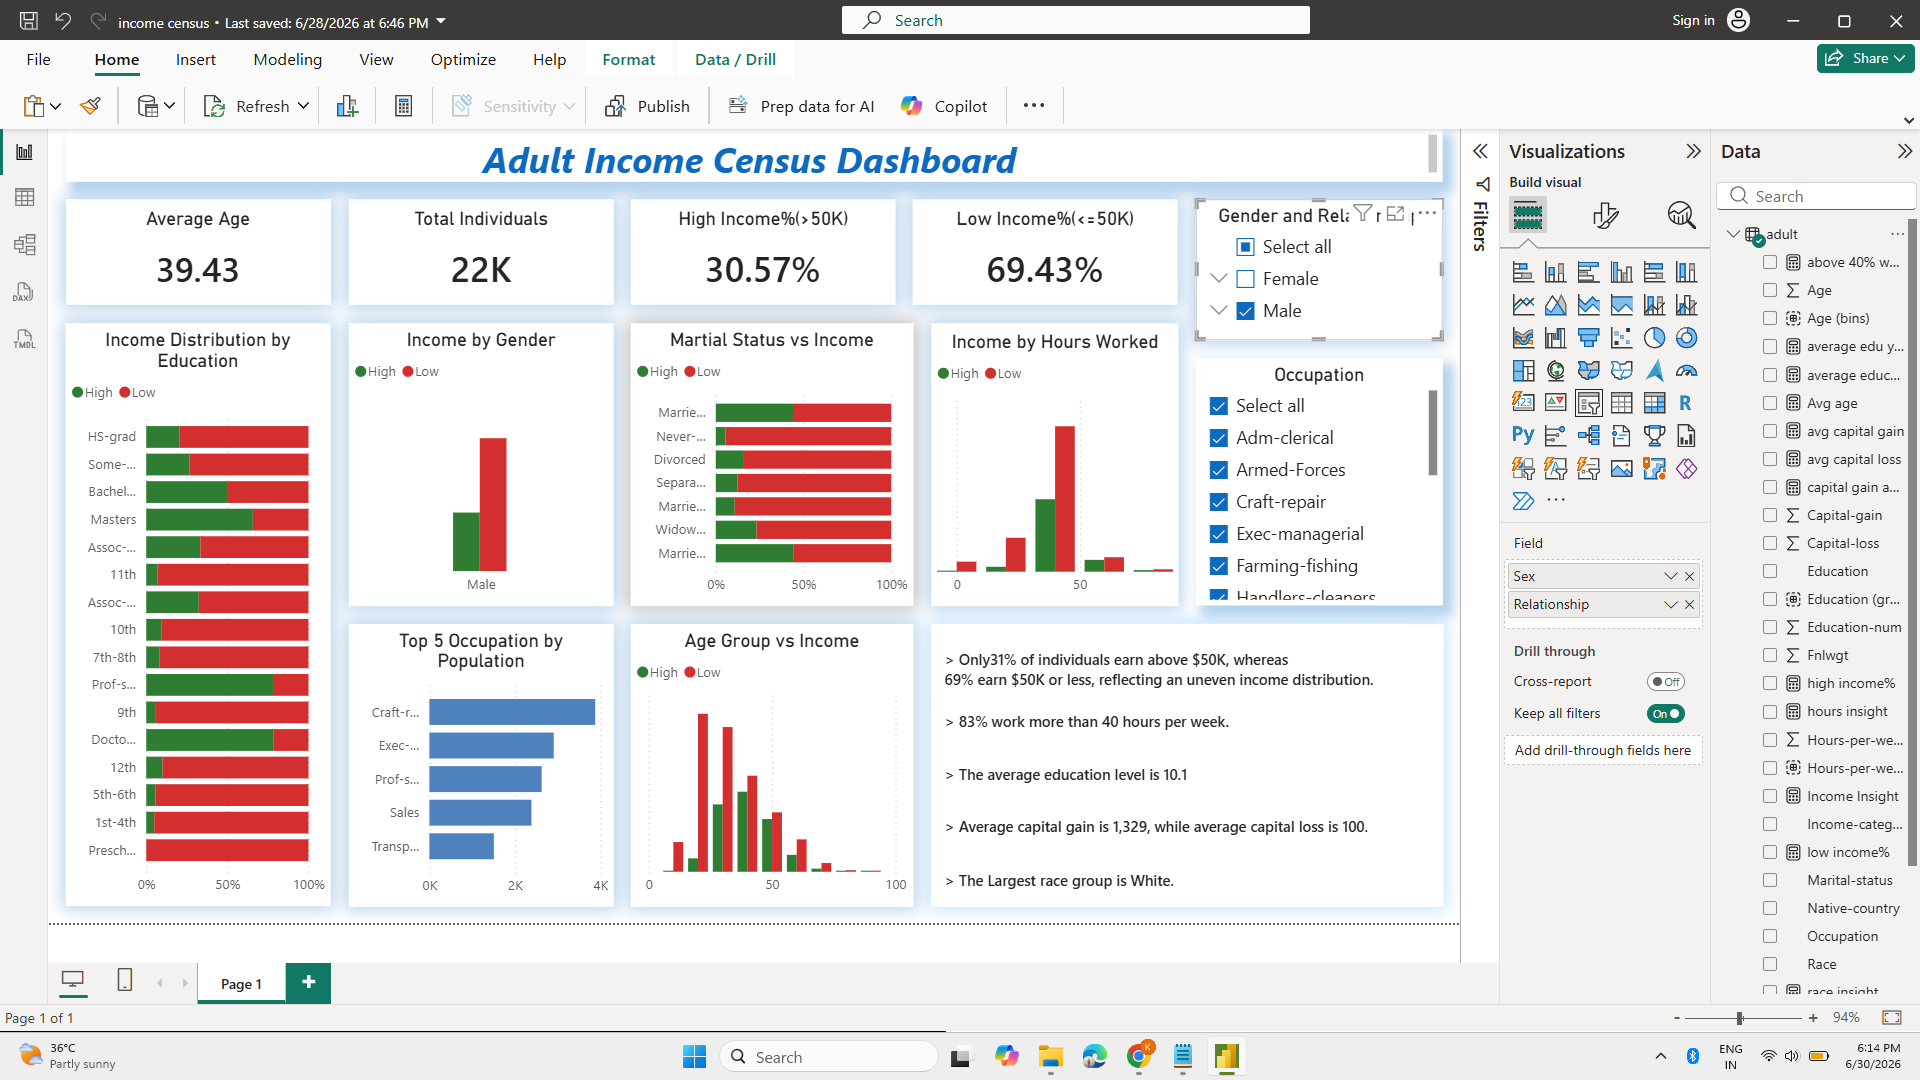

The dashboard page shown, as its layout file describes it:
{"tool":"powerbi","page":{"name":"Page 1","canvas":[1280,720],"ordinal":0},"visuals":[{"type":"shape","box":[800,448,464,256],"z":0},{"type":"slicer","title":"Occupation","fields":{"Values":["adult.Occupation"]},"box":[1040,208,224,224],"z":1000},{"type":"cardVisual","title":"Average Age","fields":{"Data":["adult.Avg age"]},"box":[16,64,240,96],"z":2000},{"type":"cardVisual","title":"Total Individuals","fields":{"Data":["adult.total population"]},"box":[272,64,240,96],"z":3000},{"type":"cardVisual","title":"High Income%(>50K)","fields":{"Data":["adult.high income%"]},"box":[528,64,240,96],"z":4000},{"type":"cardVisual","title":"Low Income%(<=50K)","fields":{"Data":["adult.low income%"]},"box":[784,64,240,96],"z":5000},{"type":"slicer","title":"Gender and Relationship","fields":{"Values":["adult.Sex","adult.Relationship"]},"box":[1040,64,224,128],"z":6000},{"type":"clusteredColumnChart","title":"Income by Gender","fields":{"Category":["adult.Sex"],"Y":["CountNonNull(adult.Native-country)"],"Series":["adult.Income-category"]},"box":[272,176,240,256],"z":7000},{"type":"barChart","title":"Top 5 Occupation by Population","fields":{"Category":["adult.Occupation"],"Y":["adult.total population"]},"box":[272,448,240,256],"z":8000},{"type":"hundredPercentStackedBarChart","title":"Income Distribution by Education","fields":{"Y":["adult.total population"],"Category":["adult.Education"],"Series":["adult.Income-category"]},"box":[16,176,240,528],"z":9000},{"type":"hundredPercentStackedBarChart","title":"Martial Status vs Income","fields":{"Category":["adult.Marital-status"],"Y":["adult.total population"],"Series":["adult.Income-category"]},"box":[528,176,256,256],"z":10000},{"type":"clusteredColumnChart","title":"Age Group vs Income","fields":{"Y":["adult.total population"],"Series":["adult.Income-category"],"Category":["adult.Age (bins)"]},"box":[528,448,256,256],"z":11000},{"type":"clusteredColumnChart","title":"Income by Hours Worked","fields":{"Series":["adult.Income-category"],"Y":["adult.total population"],"Category":["adult.Hours-per-week (bins)"]},"box":[800,176,224,256],"z":12000},{"type":"cardVisual","title":"     Income Insight","fields":{"Data":["adult.income insight"]},"box":[800,448,432,80],"z":13000},{"type":"cardVisual","fields":{"Data":["adult.hours insight"]},"box":[800,512,432,48],"z":14000},{"type":"cardVisual","fields":{"Data":["adult.average edu year insights"]},"box":[800,560,352,48],"z":15000},{"type":"cardVisual","fields":{"Data":["adult.capital gain and loss"]},"box":[800,608,432,48],"z":16000},{"type":"cardVisual","fields":{"Data":["adult.race insight"]},"box":[800,656,304,48],"z":17000},{"type":"shape","box":[16,0,1248,48],"z":18000},{"type":"textbox","box":[16,0,1248,48],"z":19000}]}

Visuals, with their boxes on the page's 1280x720 design canvas (x1, y1, x2, y2). These are canvas units, not pixel positions in the 1920x1080 screenshot, which may show the page scaled, cropped or inside an application window:
shape: 800,448,1264,704
"Occupation" slicer: 1040,208,1264,432
"Average Age" cardVisual: 16,64,256,160
"Total Individuals" cardVisual: 272,64,512,160
"High Income%(>50K)" cardVisual: 528,64,768,160
"Low Income%(<=50K)" cardVisual: 784,64,1024,160
"Gender and Relationship" slicer: 1040,64,1264,192
"Income by Gender" clusteredColumnChart: 272,176,512,432
"Top 5 Occupation by Population" barChart: 272,448,512,704
"Income Distribution by Education" hundredPercentStackedBarChart: 16,176,256,704
"Martial Status vs Income" hundredPercentStackedBarChart: 528,176,784,432
"Age Group vs Income" clusteredColumnChart: 528,448,784,704
"Income by Hours Worked" clusteredColumnChart: 800,176,1024,432
"     Income Insight" cardVisual: 800,448,1232,528
cardVisual - adult.hours insight: 800,512,1232,560
cardVisual - adult.average edu year insights: 800,560,1152,608
cardVisual - adult.capital gain and loss: 800,608,1232,656
cardVisual - adult.race insight: 800,656,1104,704
shape: 16,0,1264,48
textbox: 16,0,1264,48
